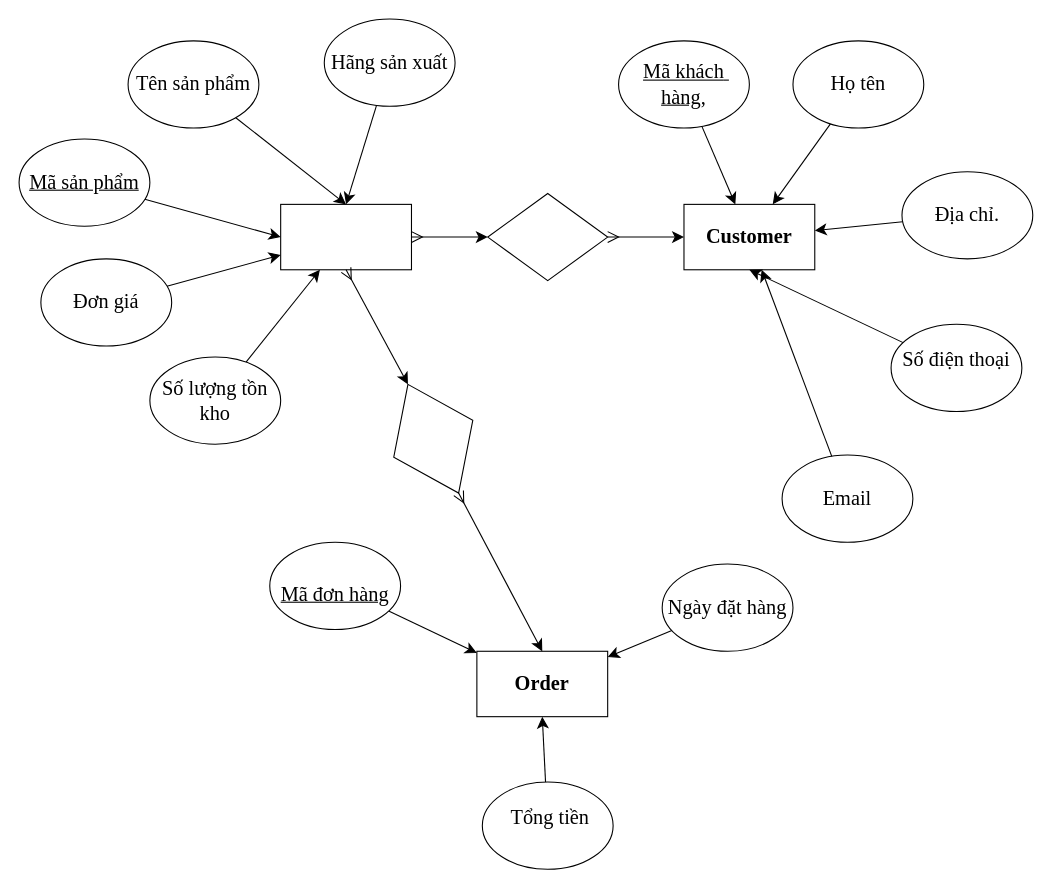
Image size: 1052x888. Some labels were removed from this diagram. Each missing label, with the centre of its shape:
Chi tiết đơn hàng: pixel 432 438
Product: pixel 345 236
Đặt hàng: pixel 547 236
